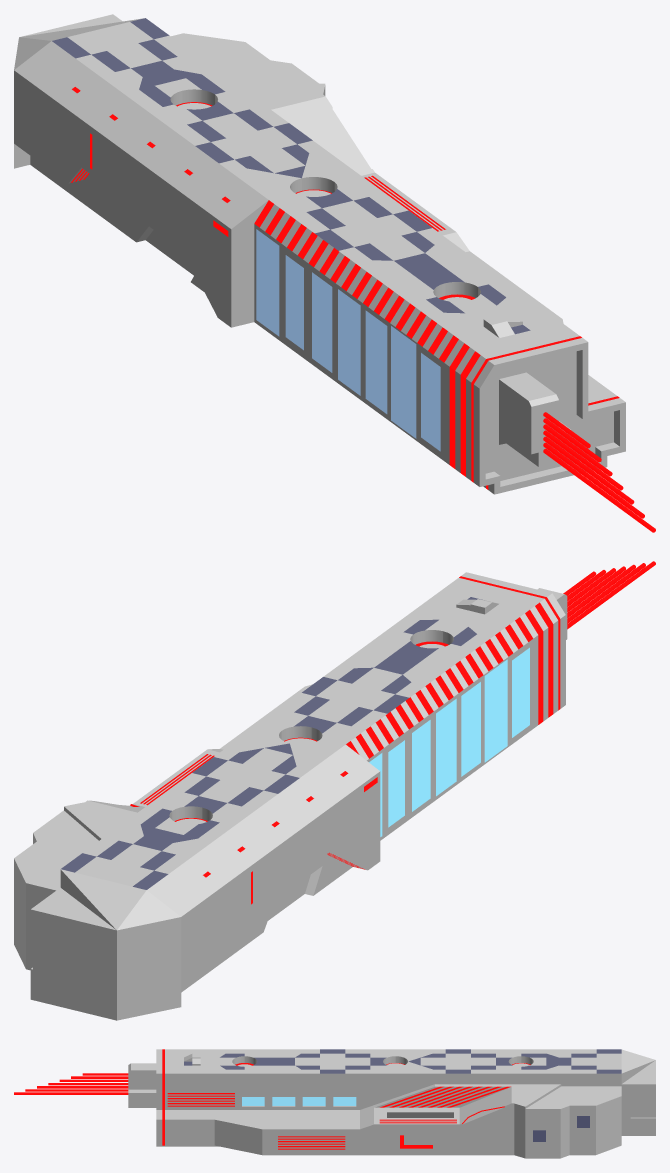
Rendered from g1_cyberpunk_building.glb.
3 views of the same model, one above another, from view 1: azimuth 30°, elevation 25°; view 2: azimuth 150°, elevation 25°; view 3: azimuth 270°, elevation 25° (orthographic). The views are drawn at different scales.
Parts seen in each view (by area): view 1: Object_5, Object_4, Object_2, Object_3; view 2: Object_5, Object_4, Object_3, Object_2; view 3: Object_5, Object_2, Object_3, Object_4.
Boxes of the visible parts, x1,y1,x2,y2 form: Object_5: (14,14,625,494); Object_4: (256,229,440,451); Object_2: (71,87,655,532); Object_3: (52,18,530,334); Object_5: (14,572,567,1020); Object_4: (369,647,529,836); Object_3: (61,597,482,889); Object_2: (130,561,655,904); Object_5: (128,1049,655,1158); Object_2: (14,1049,530,1149); Object_3: (184,1049,621,1141); Object_4: (242,1097,356,1105).
Size of the model in its own units: 11.68 by 6.95 by 56.21.
